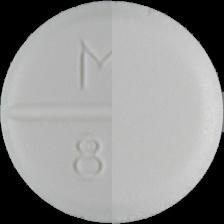68084-952: (0, 0, 224, 224)
